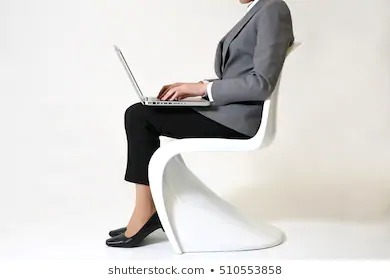S_W_pants: (120, 98, 263, 189)
